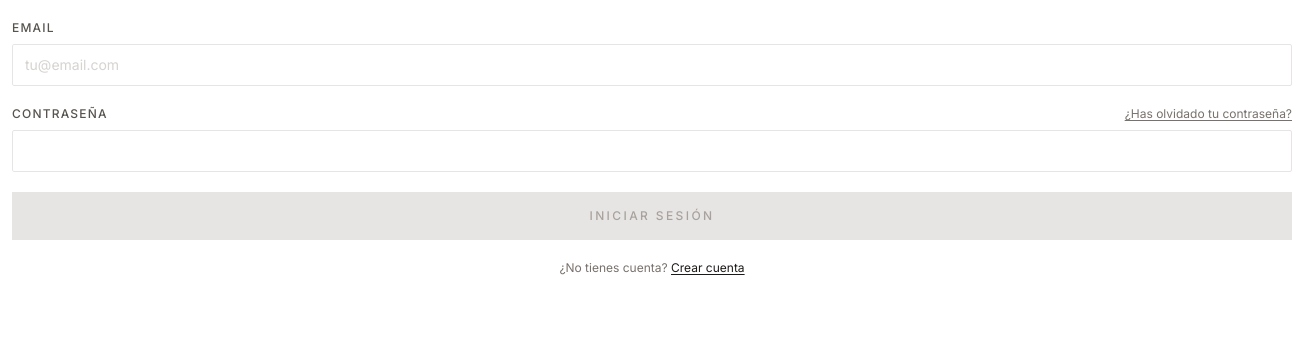
Test: LoginForm › shows generic "Email o contraseña incorrectos." on 401 — no enumeration
The width and height of the screenshot is (1304, 346).
Type "user@example.com" into the field labelled "Email" at (652, 65), box [12, 44, 1292, 86]
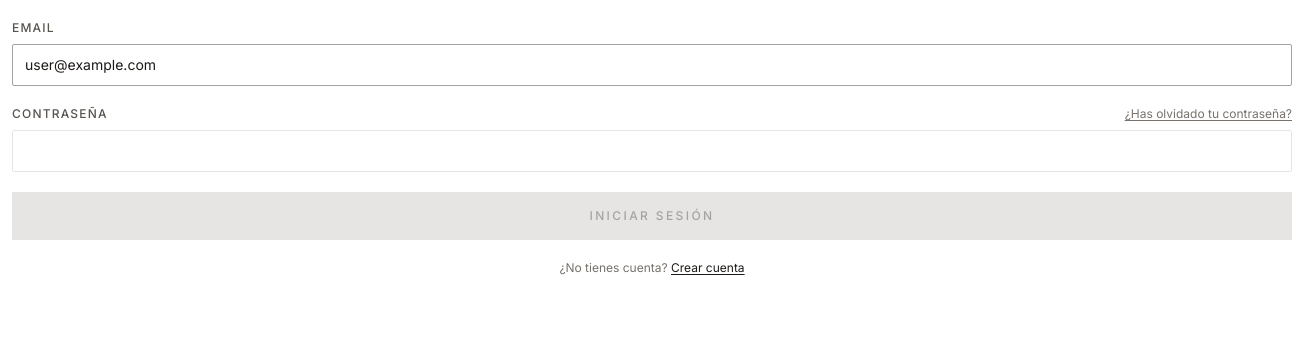
Type "wrongpassword" into the password field labelled "Contraseña" at (652, 151), box [12, 130, 1292, 172]
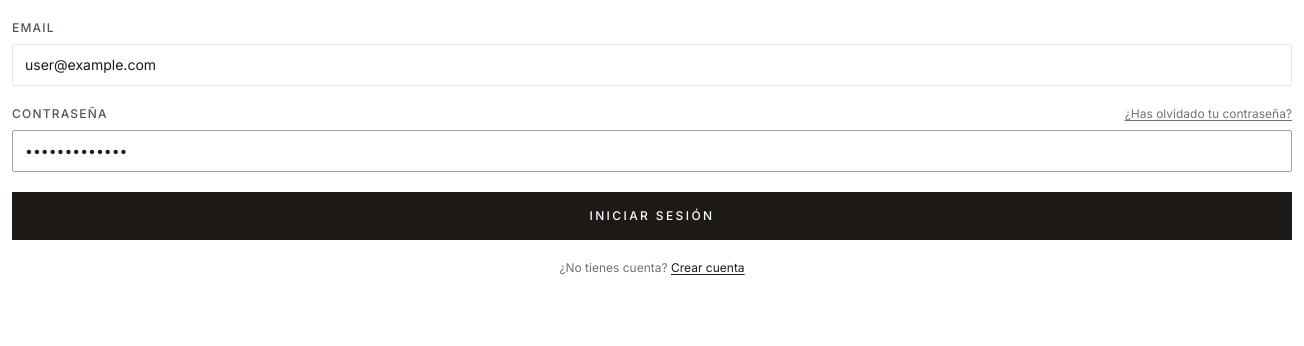
Click the button "Iniciar sesión" at (652, 216), box [12, 192, 1292, 240]
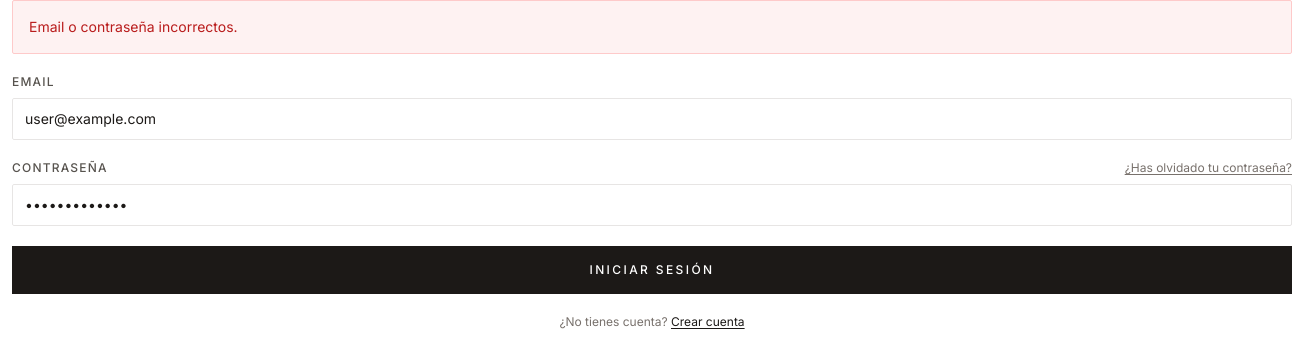
Result: the text "Email o contraseña incorrectos." is shown at [29, 18, 238, 35]
